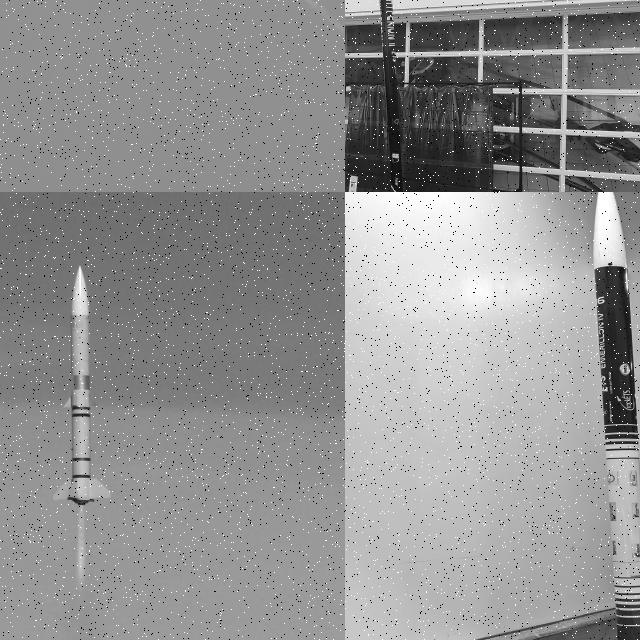Rocket: (593, 192, 640, 640), (50, 265, 114, 507), (379, 0, 403, 192)
